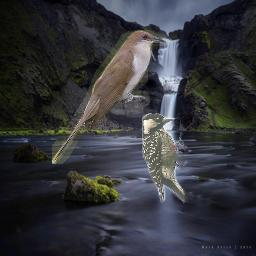Cuckoo: (52, 30, 167, 164)
Woodpecker: (142, 113, 189, 204)
